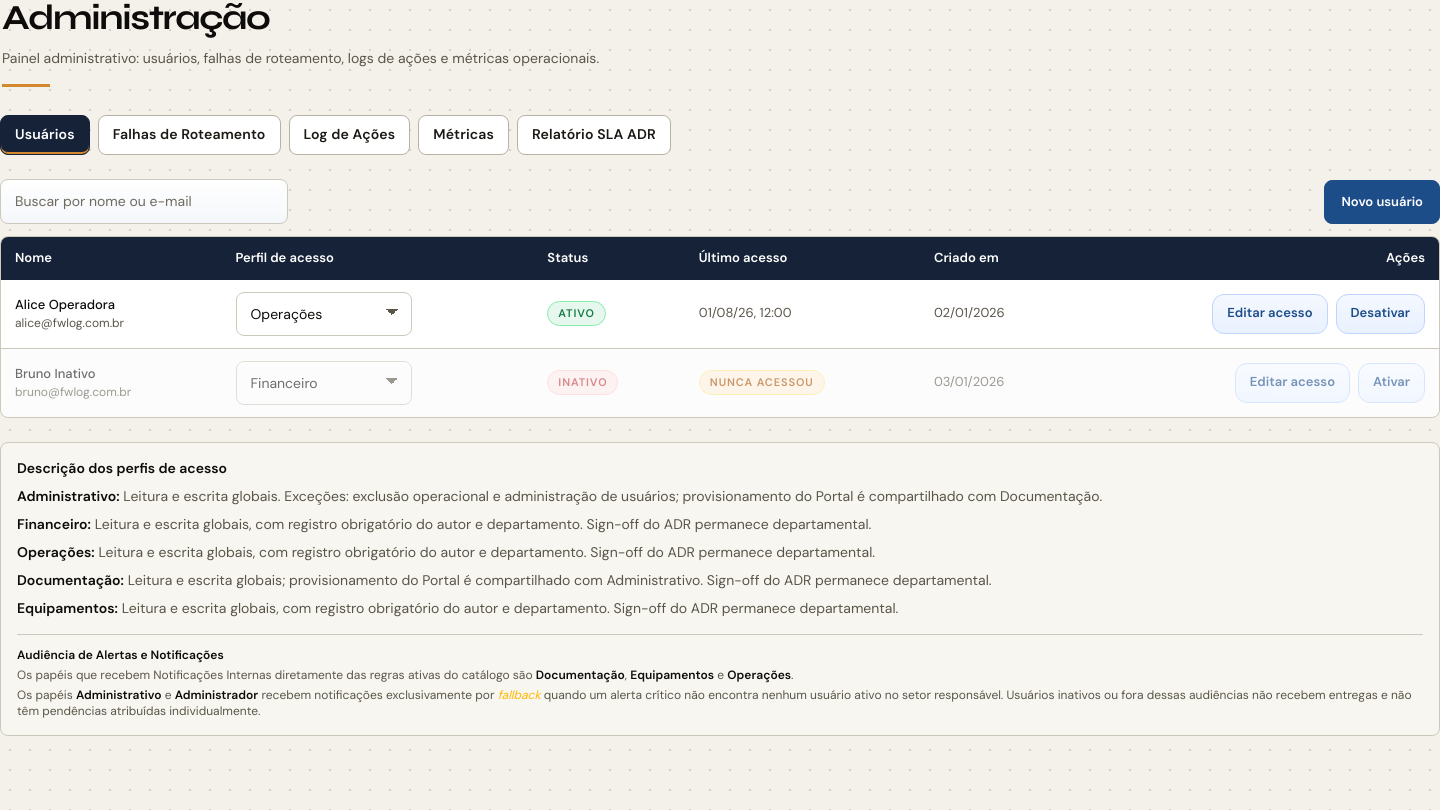
Scenario: exige o setor para criar um usuario
The width and height of the screenshot is (1440, 810).
Click the button "Novo usuário" at (1382, 202), box [1324, 180, 1439, 224]
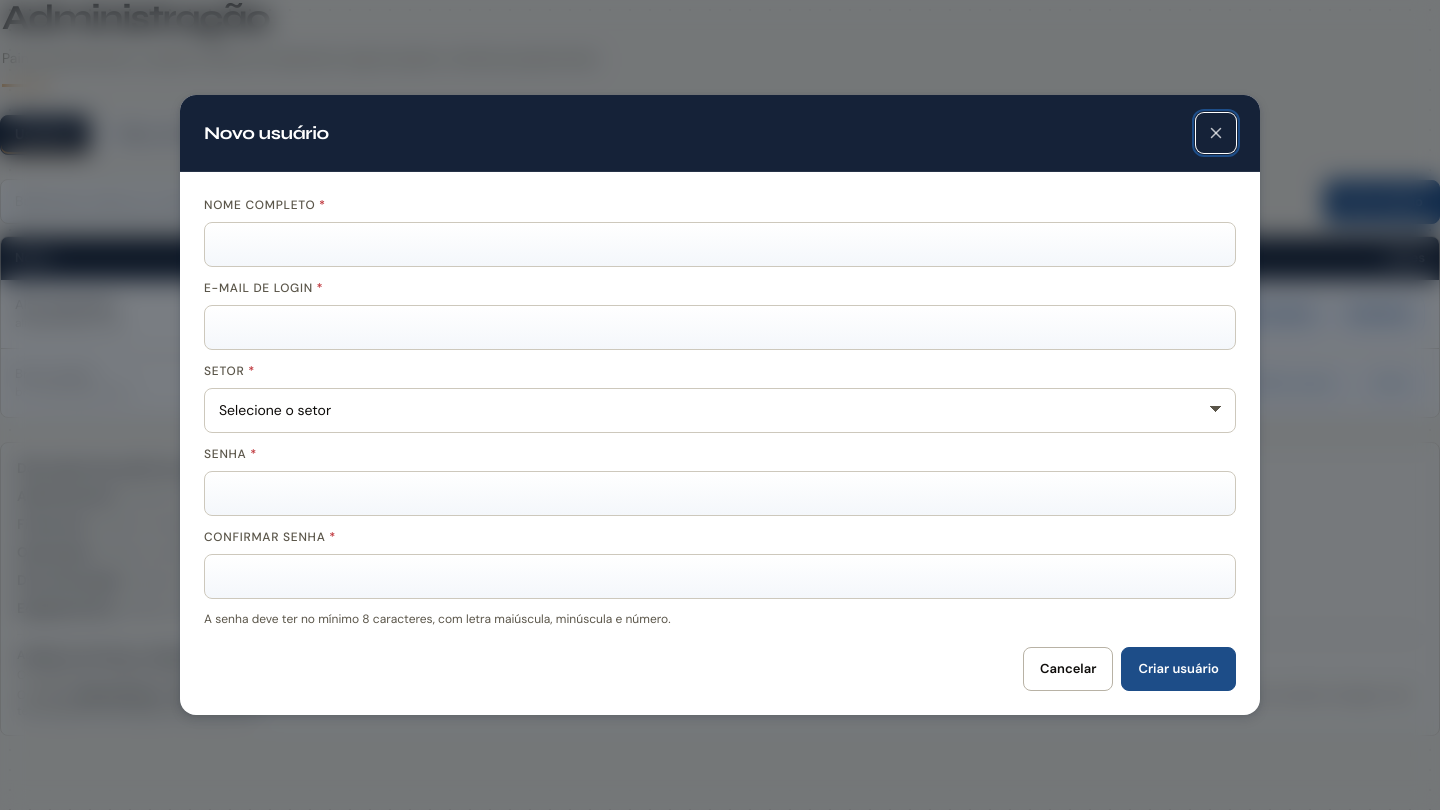
Type "Carla Nova" into the field labelled "Nome completo *" at (720, 244), box [204, 222, 1236, 267]
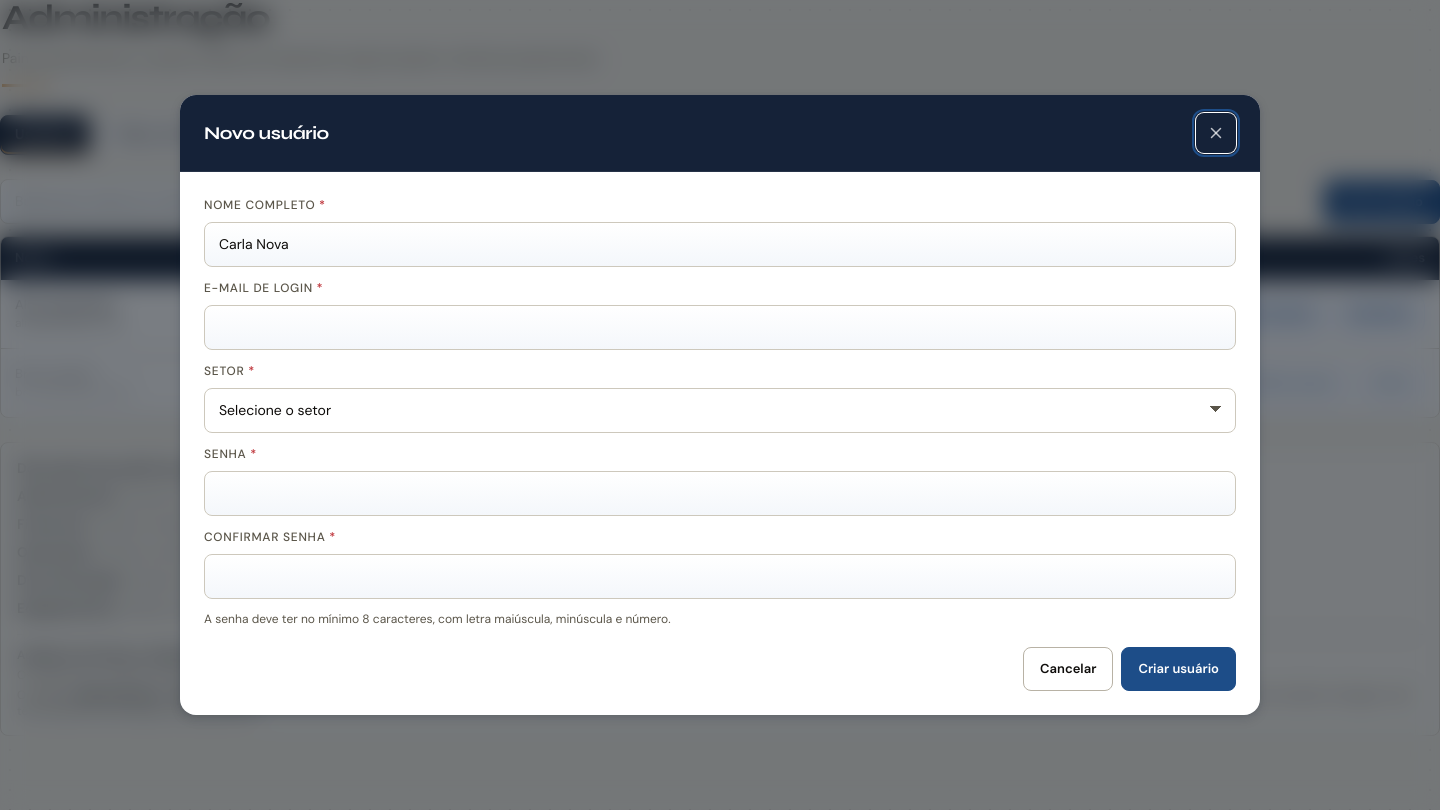
Type "carla@fwlog.com.br" into the field labelled "E-mail de login *" at (720, 328), box [204, 305, 1236, 350]
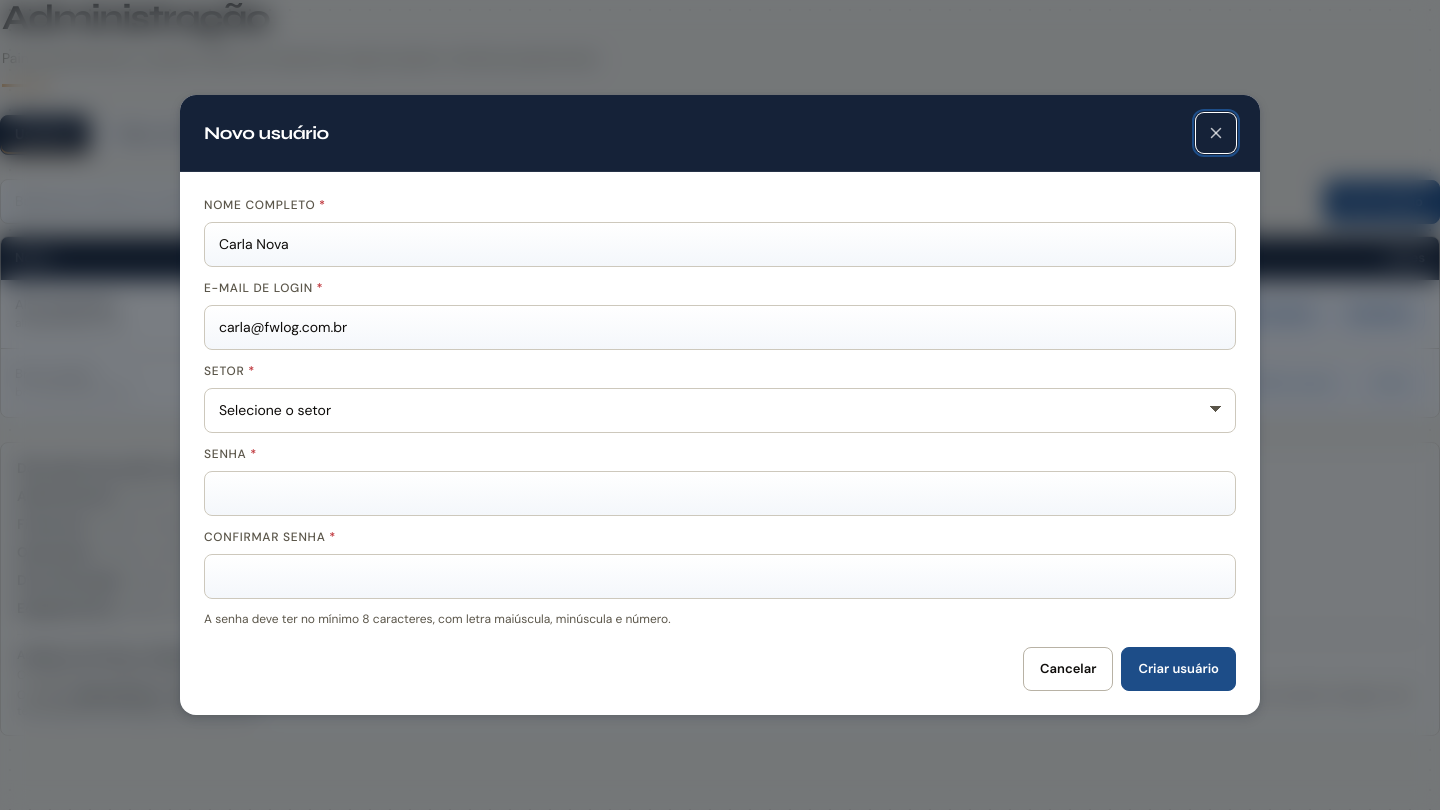
Type "Senha123" into the password field labelled "Senha *" at (720, 494), box [204, 471, 1236, 516]
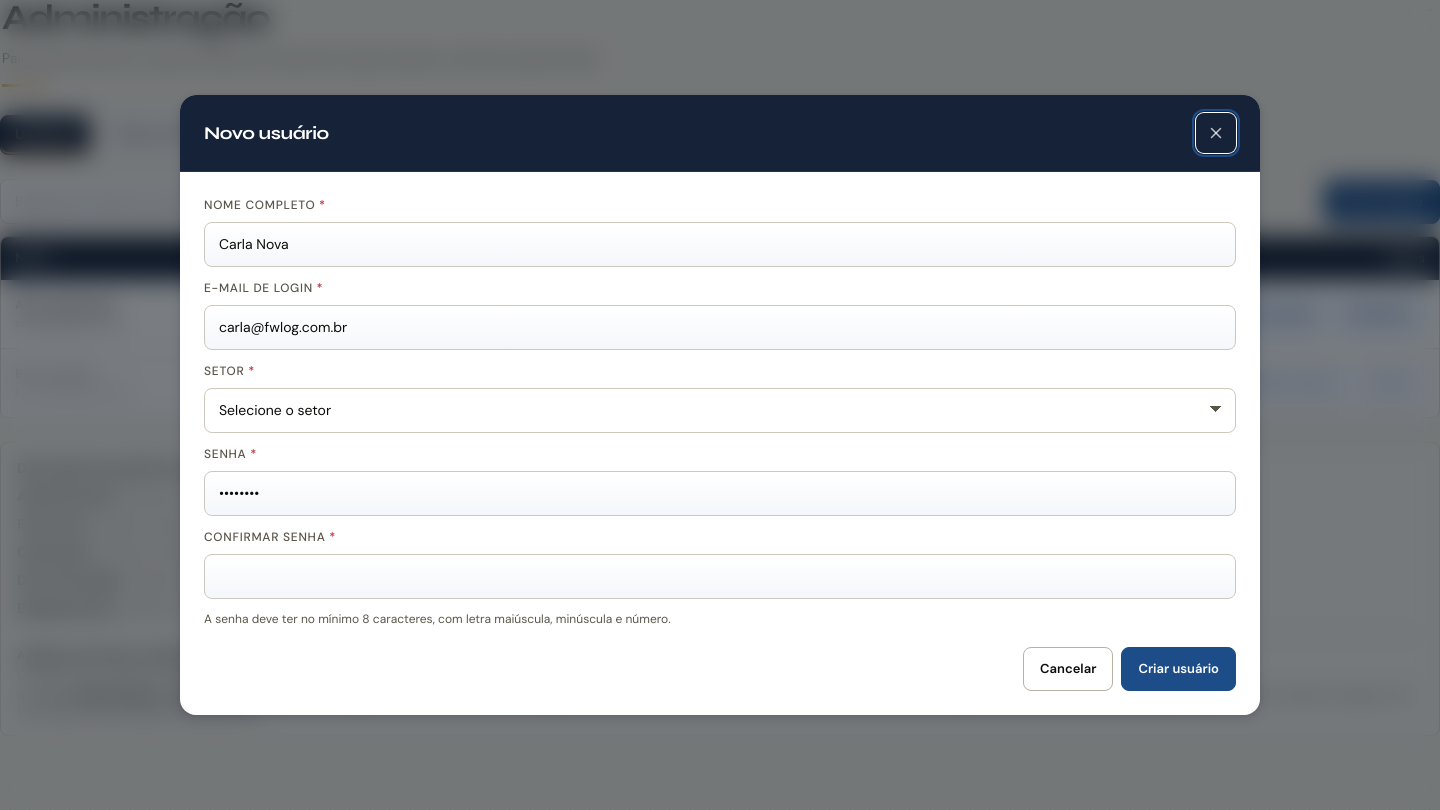
Type "Senha123" into the password field labelled "Confirmar senha *" at (720, 576), box [204, 554, 1236, 599]
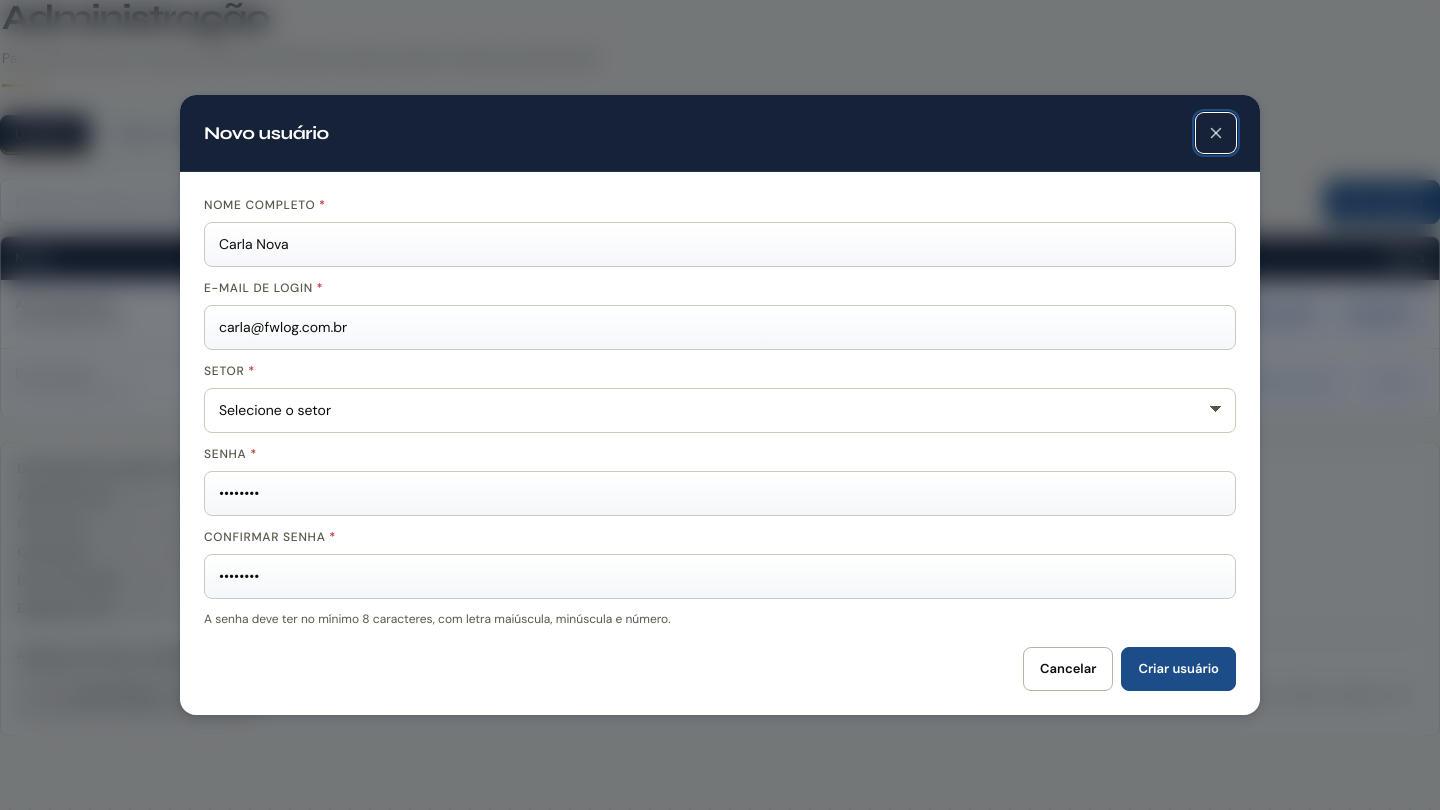
Click the button "Criar usuário" at (1179, 669), box [1121, 647, 1236, 691]
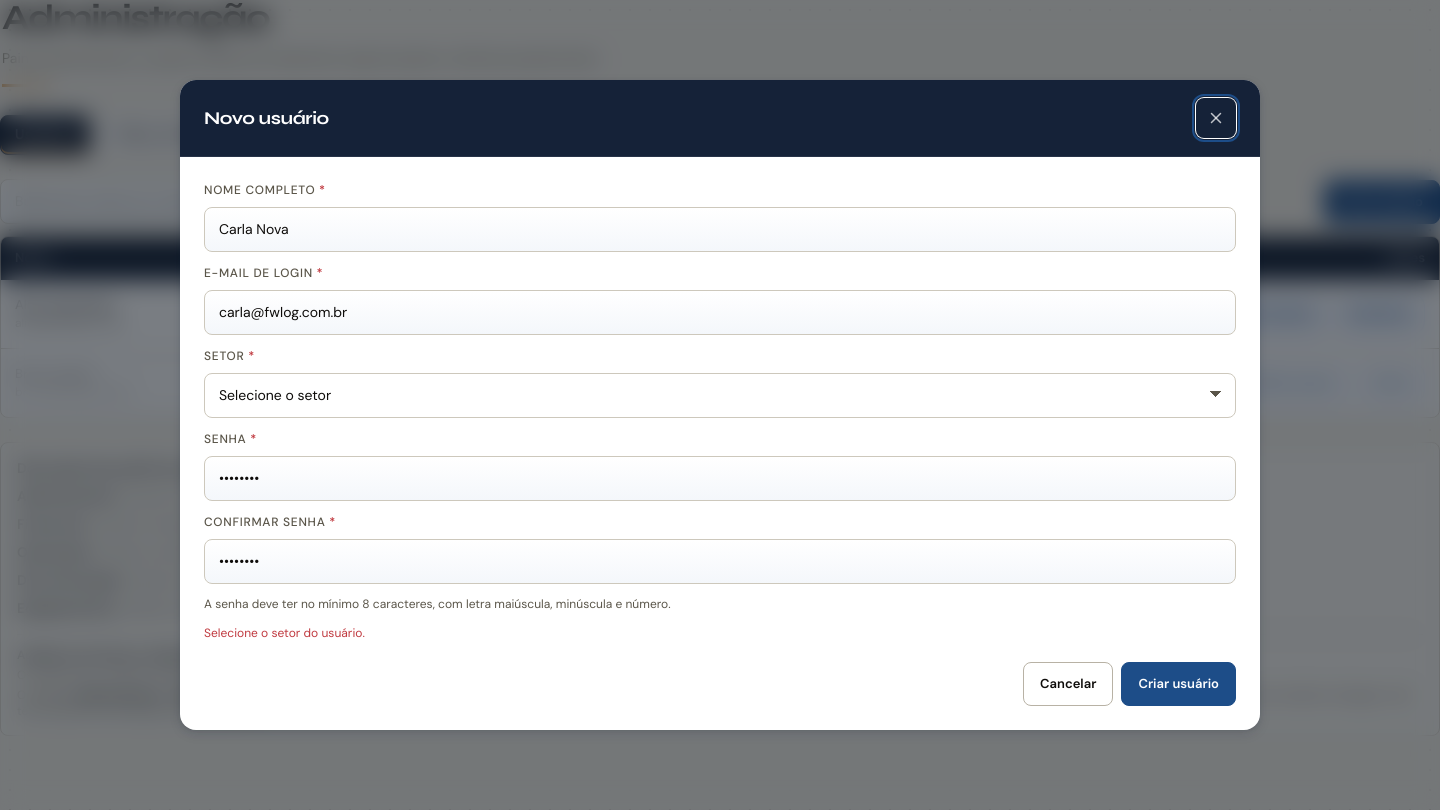
Check: the text "Selecione o setor do usuário." is shown, box [204, 625, 365, 641]
